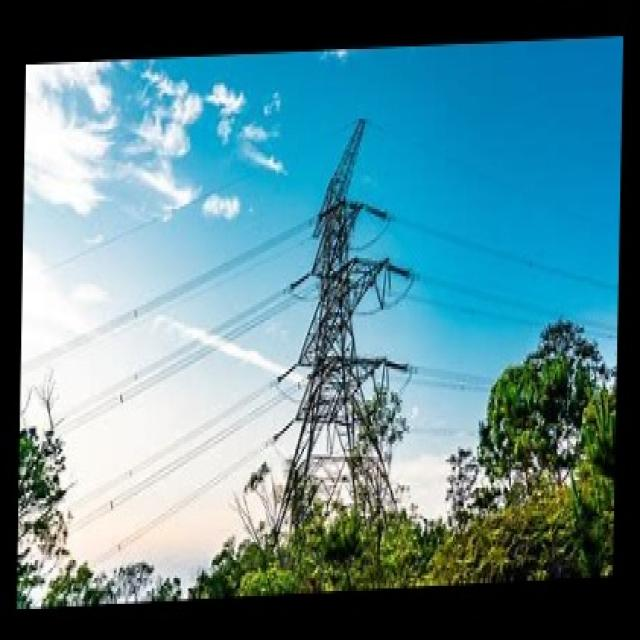utility poles: (457, 256, 590, 477), (338, 359, 428, 520)
